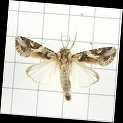Spodoptera litura: (12, 30, 115, 101)
